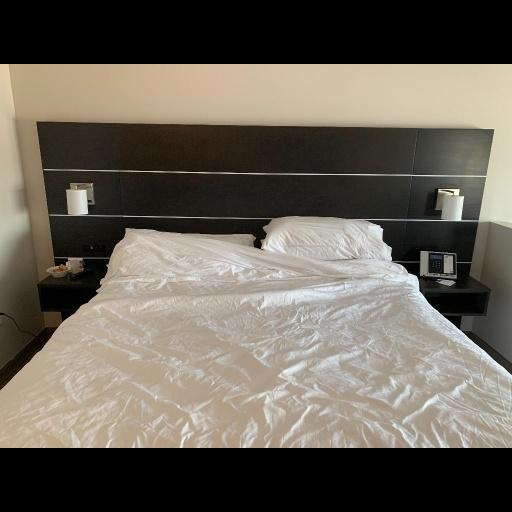Disorganized_pillow: (125, 215, 386, 288)
messy_bed: (1, 120, 511, 452)
